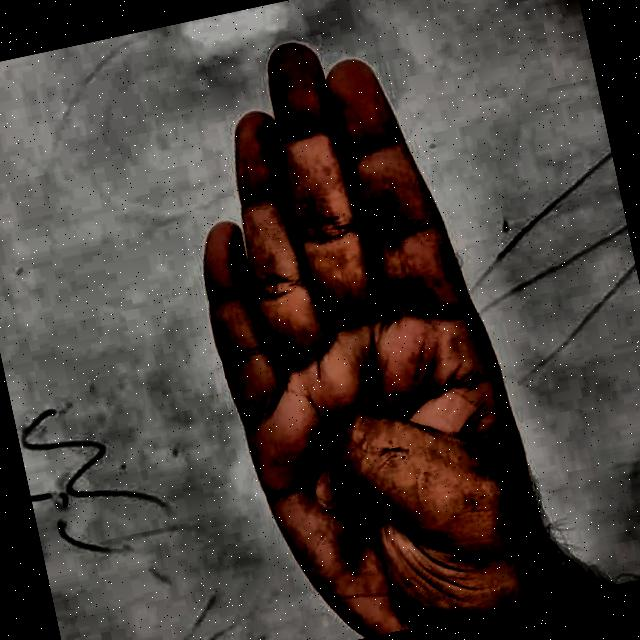Ba: (119, 0, 593, 640)
